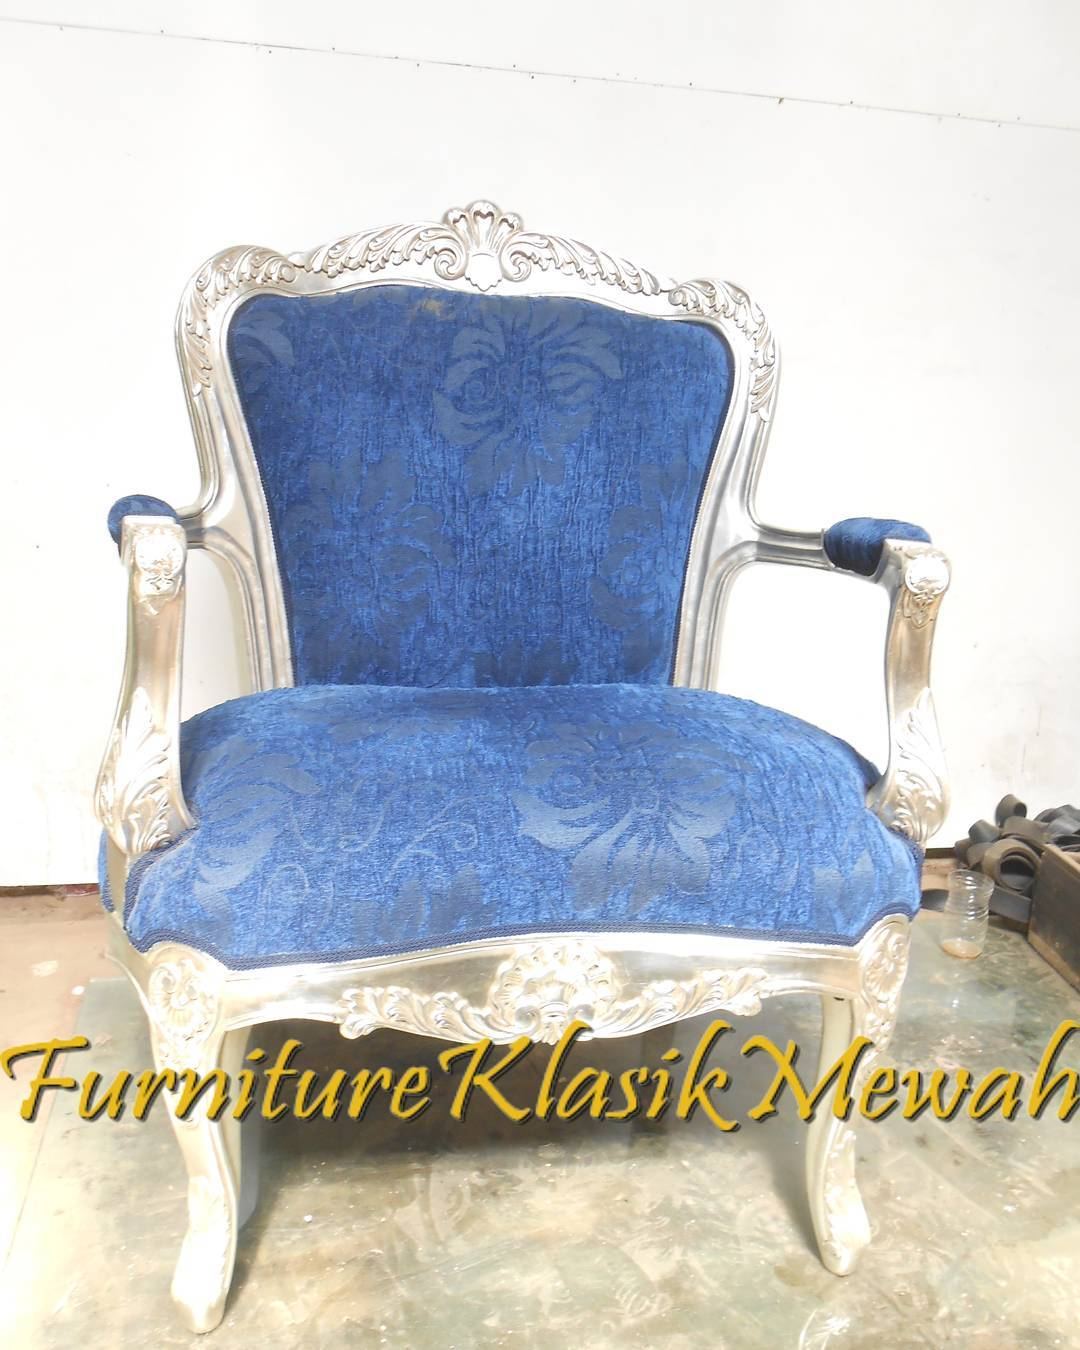Carving Chair: (108, 217, 955, 1283)
